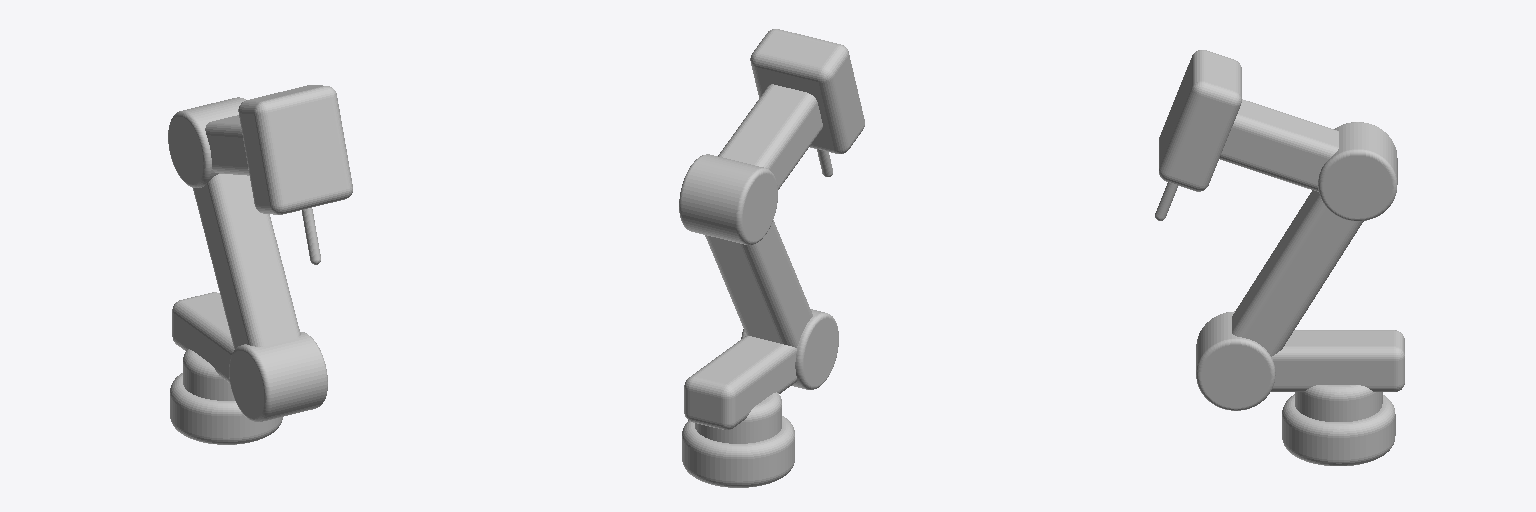
File: robot.obj
3 views of the same model, side by side, from view 1: azimuth 30°, elevation 25°; view 2: azimuth 150°, elevation 25°; view 3: azimuth 270°, elevation 25° (orthographic).
Visible parts, largest first — view 1: 001_Box_4, 003_Box_1, 005_Cylinder_2, 008_Cylinder, 006_Box, 004_Cylinder_3, 002_Box_3, 007_Cylinder_1, 000_Box_5; view 2: 001_Box_4, 003_Box_1, 004_Cylinder_3, 006_Box, 002_Box_3, 008_Cylinder, 005_Cylinder_2, 007_Cylinder_1; view 3: 003_Box_1, 001_Box_4, 006_Box, 002_Box_3, 004_Cylinder_3, 005_Cylinder_2, 008_Cylinder, 007_Cylinder_1.
Part boxes in pixels (bbox=[...]): 001_Box_4: bbox=[238, 85, 352, 214]; 003_Box_1: bbox=[193, 174, 300, 349]; 005_Cylinder_2: bbox=[229, 332, 327, 421]; 008_Cylinder: bbox=[170, 373, 282, 444]; 006_Box: bbox=[172, 292, 233, 382]; 004_Cylinder_3: bbox=[168, 97, 245, 187]; 002_Box_3: bbox=[205, 115, 249, 175]; 007_Cylinder_1: bbox=[183, 349, 234, 400]; 000_Box_5: bbox=[302, 208, 320, 264]; 001_Box_4: bbox=[750, 29, 864, 153]; 003_Box_1: bbox=[705, 220, 812, 347]; 004_Cylinder_3: bbox=[679, 154, 777, 244]; 006_Box: bbox=[684, 336, 796, 429]; 002_Box_3: bbox=[718, 84, 822, 189]; 008_Cylinder: bbox=[682, 416, 794, 487]; 005_Cylinder_2: bbox=[741, 309, 838, 389]; 007_Cylinder_1: bbox=[695, 392, 781, 443]; 003_Box_1: bbox=[1232, 190, 1363, 356]; 001_Box_4: bbox=[1159, 50, 1241, 191]; 006_Box: bbox=[1271, 330, 1404, 391]; 002_Box_3: bbox=[1219, 99, 1338, 191]; 004_Cylinder_3: bbox=[1318, 122, 1397, 220]; 005_Cylinder_2: bbox=[1196, 311, 1275, 410]; 008_Cylinder: bbox=[1282, 394, 1395, 465]; 007_Cylinder_1: bbox=[1295, 385, 1382, 421].
Size of the model in its own units: 41 by 152 by 90.33.